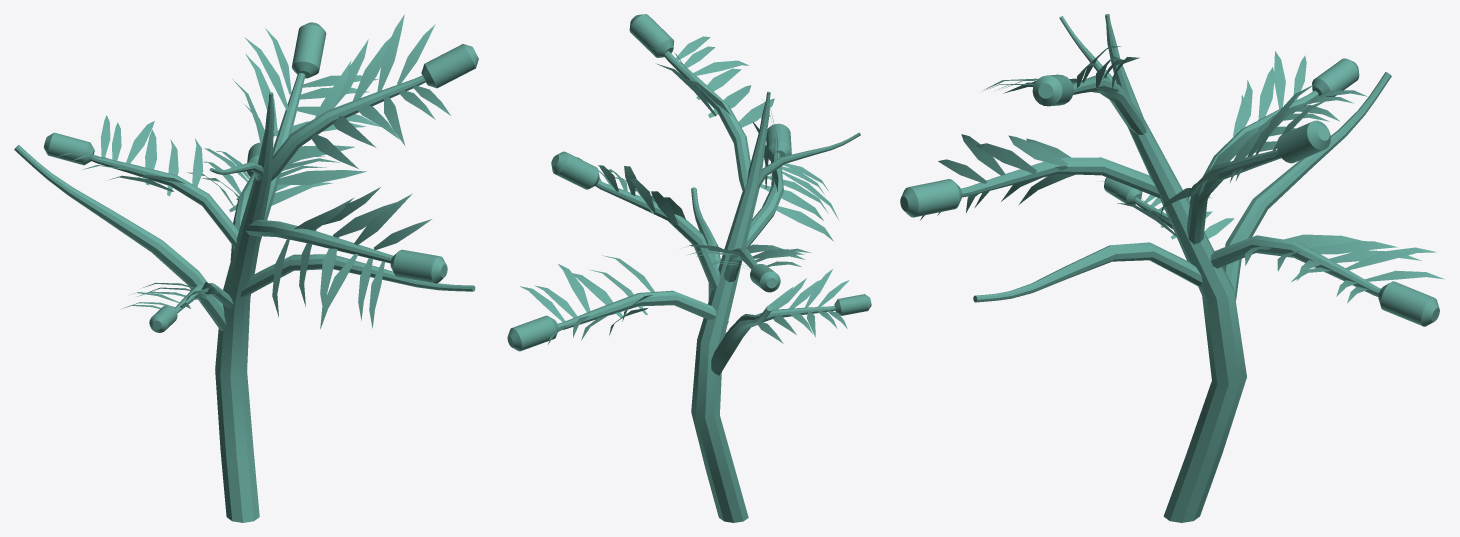
The model's file is Tree2.fbx.
3 renders of one model, left to right at view 1: azimuth 30°, elevation 25°; view 2: azimuth 150°, elevation 25°; view 3: azimuth 270°, elevation 25°, orthographic. The views are drawn at different scales.
Visible parts, largest first — view 1: Tree2; view 2: Tree2; view 3: Tree2.
Boxes of the visible parts, box(x1,y1,x2,y2) form: Tree2: box(14, 14, 478, 522); Tree2: box(507, 14, 871, 522); Tree2: box(900, 14, 1444, 522).
Size of the model in its own units: 223 by 336 by 307.
